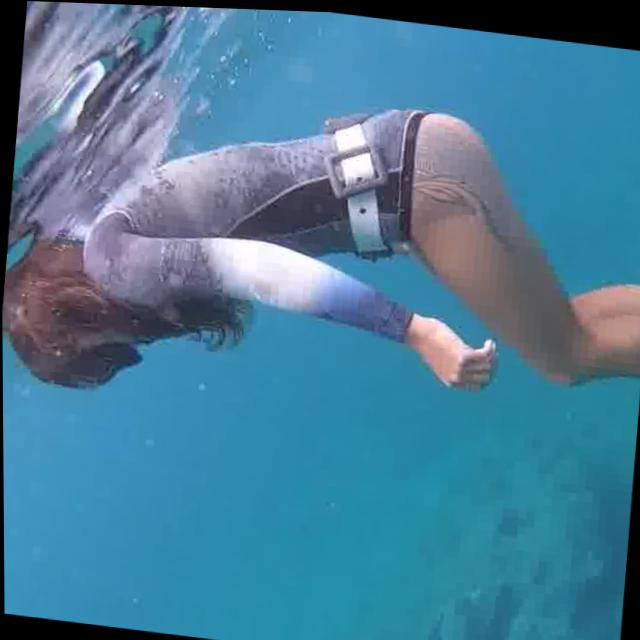human: (0, 40, 640, 468)
